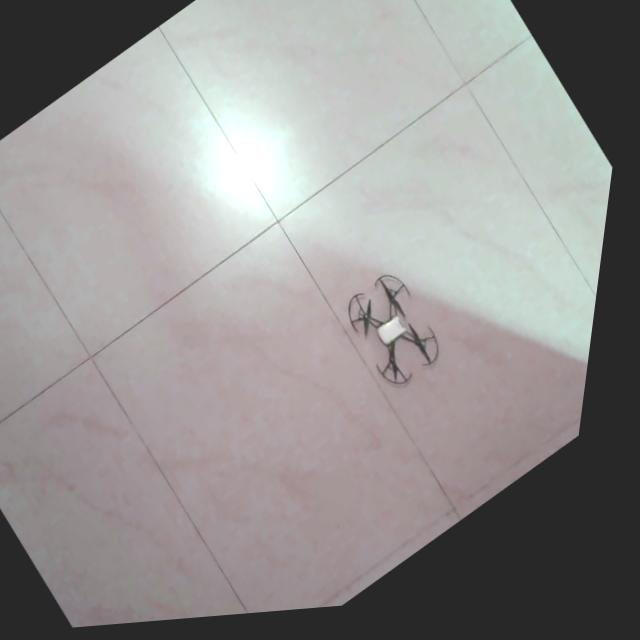drone: (356, 280, 449, 394)
